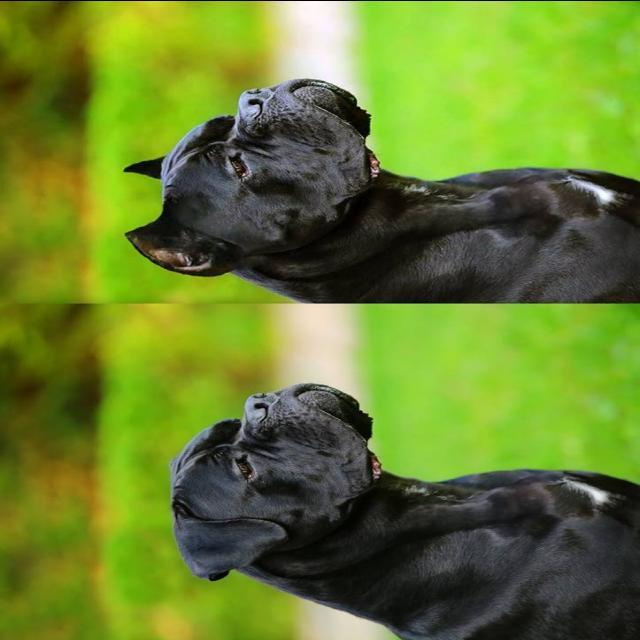Dogs: (161, 380, 637, 640), (122, 75, 640, 302)
